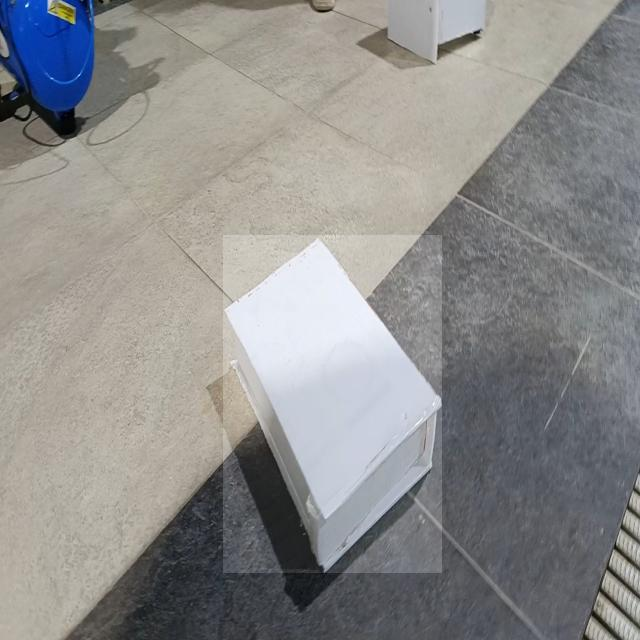Cube: (386, 0, 487, 65)
Cuboid: (223, 235, 442, 573)
